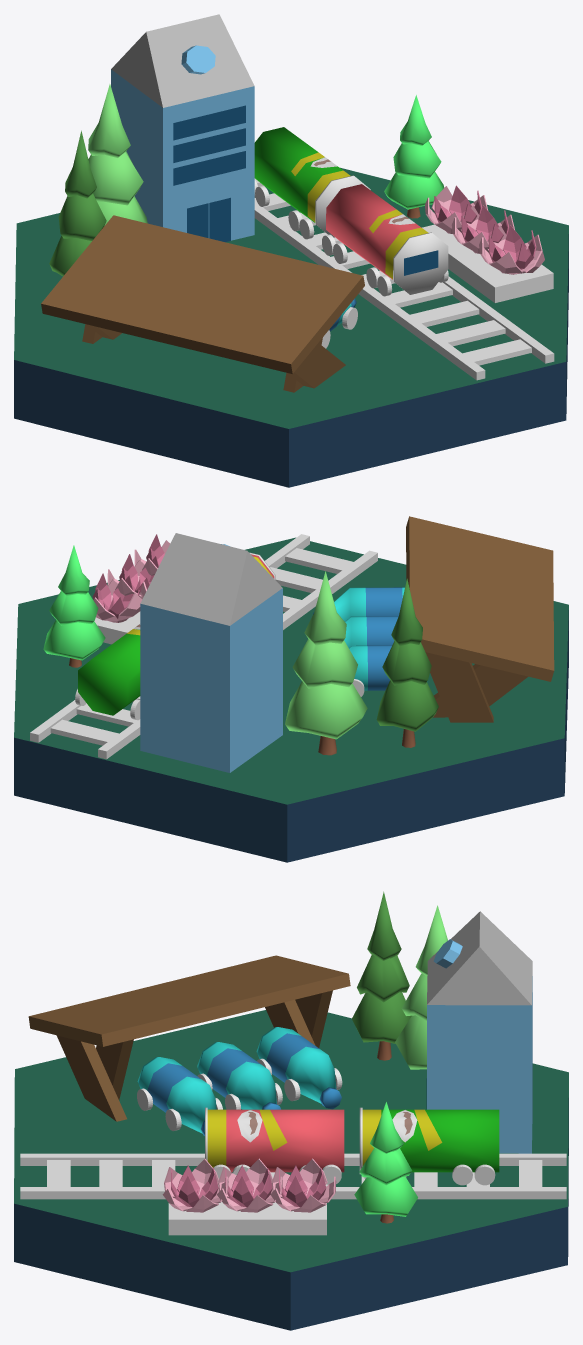
Rendered from Macro - Transportation Hub lvl 2 WM2.fbx.
3 views of the same model, one above another, from view 1: azimuth 30°, elevation 25°; view 2: azimuth 150°, elevation 25°; view 3: azimuth 270°, elevation 25° (orthographic).
Parts seen in each view (by area): view 1: Cylinder.013, table.001, milkbox1.001, chips_001.002, chips_001.001, Tree_Spruce_tiny_01.008, Tree_Spruce_tiny_01.003, Tree_Spruce_tiny_01.007, Cube.137, Cube.001, Cube.136, Plane.001 (+15 smaller); view 2: Cylinder.013, milkbox1.001, table.001, Tree_Spruce_tiny_01.008, Tree_Spruce_tiny_01.007, Tree_Spruce_tiny_01.003, chips_001.001, Cube.137, coke3.003, coke3.004, coke3.005, Cube.136 (+8 smaller); view 3: Cylinder.013, milkbox1.001, table.001, chips_001.002, chips_001.001, Tree_Spruce_tiny_01.007, Cube.001, Cube.136, Tree_Spruce_tiny_01.003, coke3.005, coke3.004, coke3.003 (+11 smaller).
Boxes of the visible parts, x1=… form: Cylinder.013: x1=14, y1=167, x2=568, y2=487; table.001: x1=41, y1=215, x2=364, y2=392; milkbox1.001: x1=111, y1=14, x2=254, y2=240; chips_001.002: x1=326, y1=184, x2=448, y2=294; chips_001.001: x1=254, y1=127, x2=370, y2=237; Tree_Spruce_tiny_01.008: x1=88, y1=84, x2=147, y2=225; Tree_Spruce_tiny_01.003: x1=384, y1=95, x2=444, y2=218; Tree_Spruce_tiny_01.007: x1=49, y1=130, x2=106, y2=276; Cube.137: x1=254, y1=201, x2=485, y2=380; Cube.001: x1=422, y1=224, x2=553, y2=302; Cube.136: x1=443, y1=276, x2=554, y2=363; Plane.001: x1=173, y1=151, x2=245, y2=185; Cylinder.013: x1=14, y1=537, x2=568, y2=862; milkbox1.001: x1=140, y1=533, x2=282, y2=772; table.001: x1=406, y1=516, x2=554, y2=722; Tree_Spruce_tiny_01.008: x1=285, y1=571, x2=367, y2=755; Tree_Spruce_tiny_01.007: x1=376, y1=578, x2=438, y2=747; Tree_Spruce_tiny_01.003: x1=43, y1=545, x2=105, y2=667; chips_001.001: x1=78, y1=624, x2=140, y2=715; Cube.137: x1=98, y1=550, x2=377, y2=759; coke3.003: x1=313, y1=587, x2=404, y2=621; coke3.004: x1=344, y1=616, x2=398, y2=647; coke3.005: x1=349, y1=645, x2=427, y2=690; Cube.136: x1=30, y1=534, x2=309, y2=742; Cylinder.013: x1=14, y1=1010, x2=568, y2=1330; milkbox1.001: x1=427, y1=911, x2=532, y2=1153; table.001: x1=28, y1=955, x2=350, y2=1121; chips_001.002: x1=205, y1=1107, x2=344, y2=1172; chips_001.001: x1=359, y1=1107, x2=499, y2=1174; Tree_Spruce_tiny_01.007: x1=352, y1=891, x2=411, y2=1060; Cube.001: x1=168, y1=1201, x2=326, y2=1235; Cube.136: x1=20, y1=1187, x2=566, y2=1199; Tree_Spruce_tiny_01.003: x1=354, y1=1102, x2=417, y2=1223; coke3.005: x1=256, y1=1027, x2=341, y2=1109; coke3.004: x1=197, y1=1042, x2=280, y2=1109; coke3.003: x1=137, y1=1057, x2=216, y2=1135.
Bounding box in the file's own units: 197 × 89.35 × 172.
